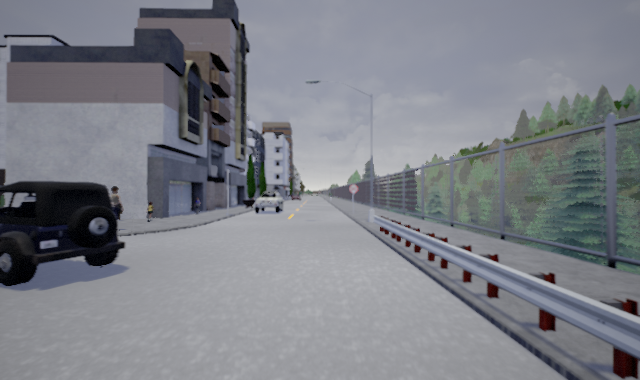pedestrian: (100, 185, 127, 231), (143, 200, 157, 221), (191, 195, 204, 213)
vehicle: (1, 178, 125, 286), (253, 189, 284, 214)
